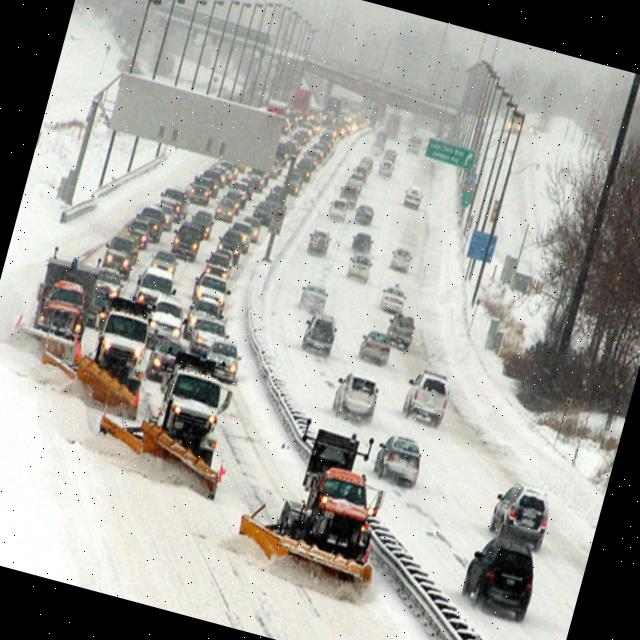bus: (232, 416, 406, 600), (98, 342, 244, 474), (59, 286, 162, 426), (6, 248, 99, 380), (286, 86, 312, 122), (320, 92, 341, 129)
car: (456, 533, 544, 624), (492, 480, 556, 552), (372, 431, 427, 490), (400, 368, 453, 428), (328, 370, 382, 424), (132, 266, 178, 317), (198, 336, 246, 384), (144, 334, 188, 382), (146, 295, 188, 343), (299, 310, 340, 358), (98, 235, 136, 282), (356, 328, 396, 368), (188, 312, 224, 356), (186, 298, 223, 339), (168, 220, 204, 262), (192, 276, 230, 313), (382, 312, 417, 352), (294, 276, 330, 314), (376, 280, 409, 316), (213, 228, 246, 264), (343, 249, 375, 285), (134, 204, 166, 240), (157, 185, 185, 221), (188, 206, 215, 240), (304, 226, 334, 256), (148, 248, 180, 276), (150, 200, 176, 232), (121, 222, 150, 250), (204, 253, 232, 280), (228, 222, 252, 252), (188, 174, 212, 203), (400, 184, 426, 210), (252, 202, 276, 228), (212, 196, 235, 223), (200, 168, 222, 196), (348, 232, 374, 255), (326, 196, 350, 220), (388, 248, 413, 271), (240, 215, 262, 241), (338, 180, 359, 207), (352, 203, 375, 226), (402, 131, 422, 157), (222, 190, 243, 214), (282, 173, 302, 196), (376, 158, 396, 180), (294, 160, 314, 182), (244, 171, 266, 191), (263, 192, 282, 214), (307, 142, 326, 164), (350, 164, 370, 184), (266, 158, 280, 184), (356, 154, 374, 173)
